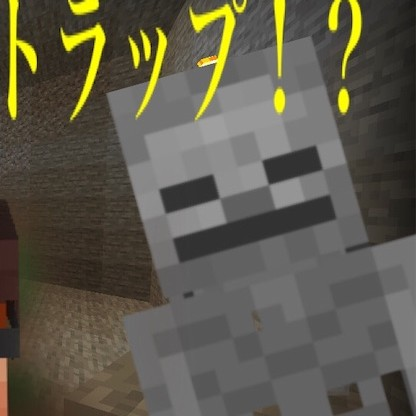skeleton: (92, 32, 407, 394)
